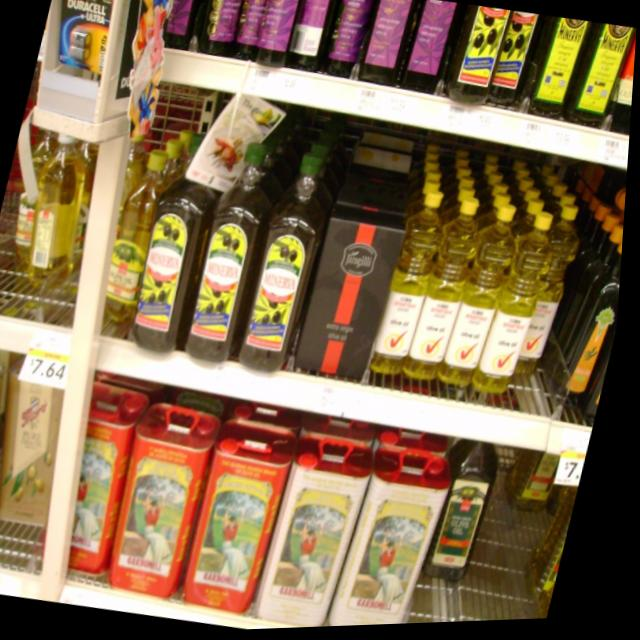q103: (103, 403, 228, 619), (188, 416, 302, 614), (51, 387, 150, 574)
q70: (181, 141, 290, 370), (120, 133, 229, 361), (245, 154, 337, 370)
